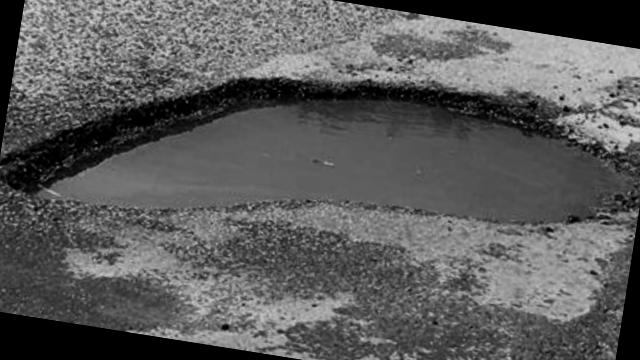Pothole: (0, 0, 640, 335)
